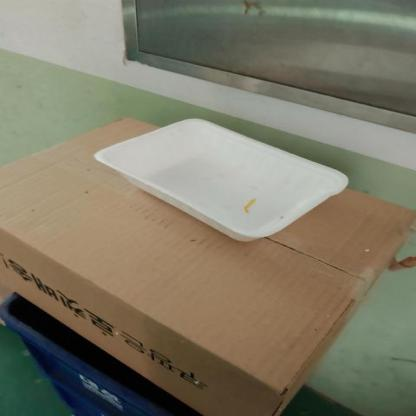Glass Cup: (92, 118, 350, 242), (94, 119, 348, 242)
